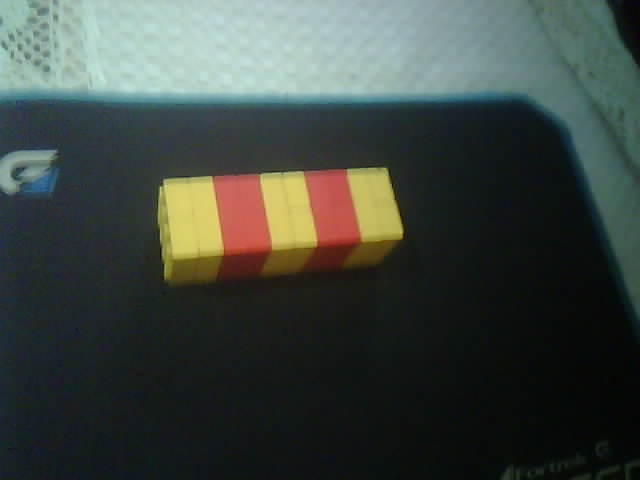lego: (154, 165, 404, 286)
